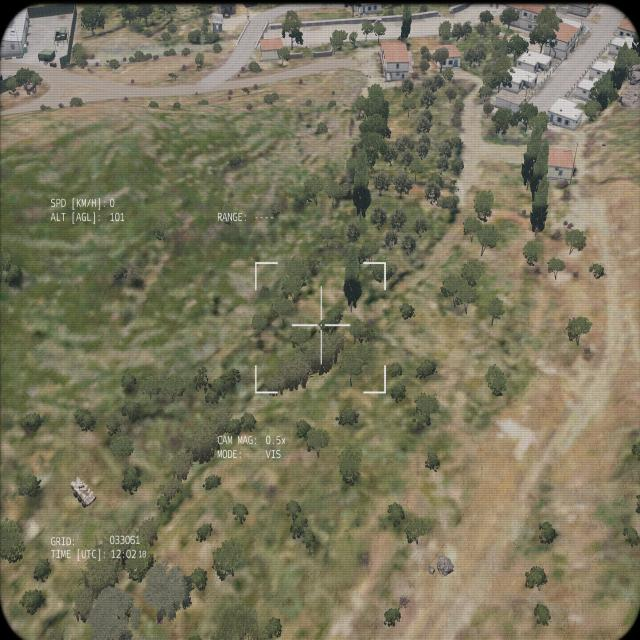apc: (70, 476, 96, 507)
